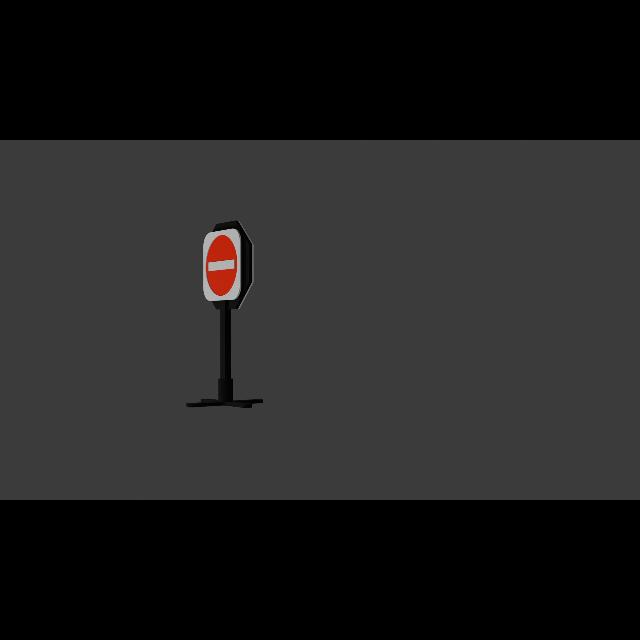sign_noentry: (205, 234, 239, 299)
